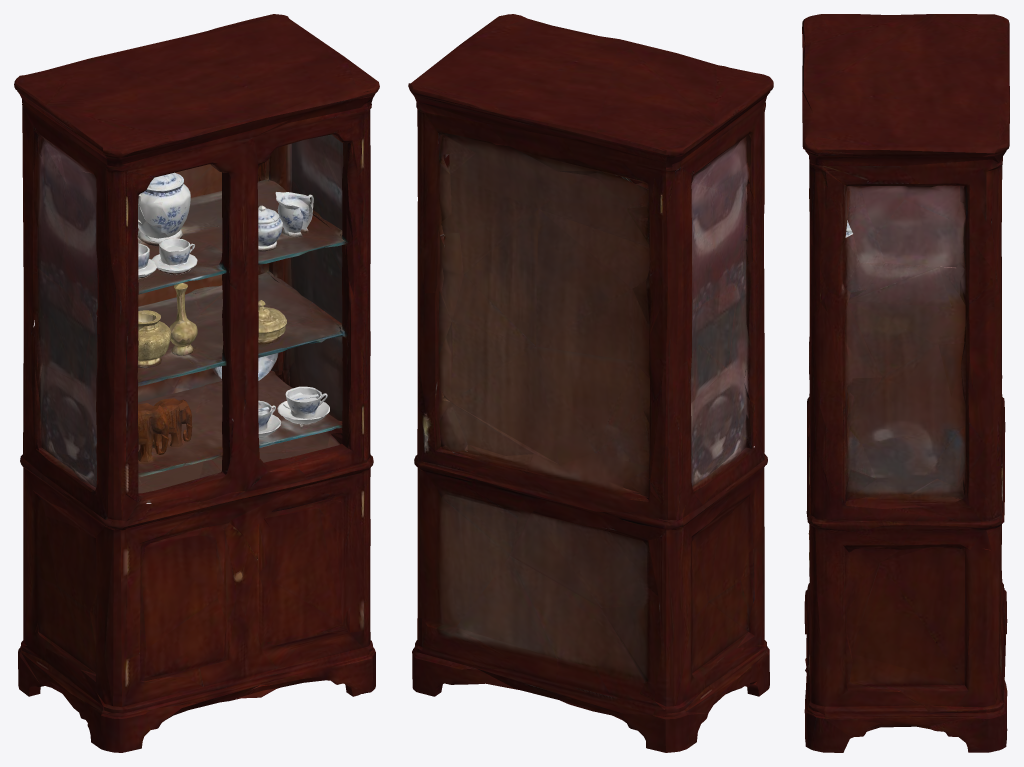
Rendered from w4cabinet.glb.
The picture shows the model from 3 angles, left to right: view 1: azimuth 30°, elevation 25°; view 2: azimuth 150°, elevation 25°; view 3: azimuth 270°, elevation 25°; orthographic projection.
Visible parts, largest first — view 1: output_unwrapped; view 2: output_unwrapped; view 3: output_unwrapped.
Boxes of the visible parts, x1,y1,x2,y2 form: output_unwrapped: [14, 14, 379, 752]; output_unwrapped: [408, 14, 773, 752]; output_unwrapped: [802, 14, 1009, 752].
Size of the model in its own units: 0.8623 by 1.8 by 0.5602.
1 material, 1 textured.
